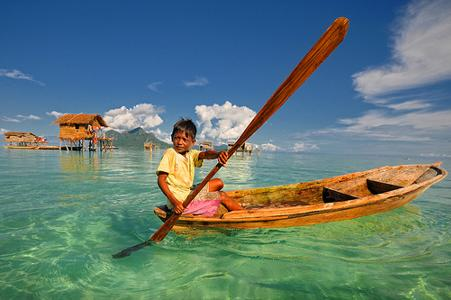person: (157, 117, 246, 218)
